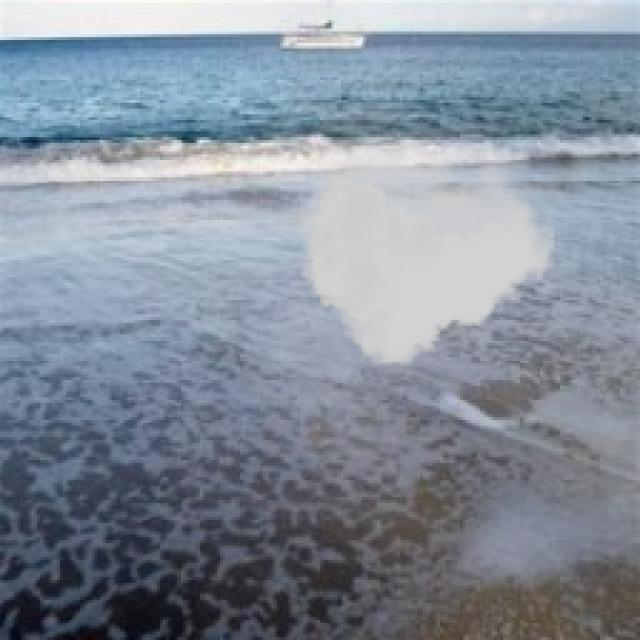smoke: (297, 143, 554, 366)
